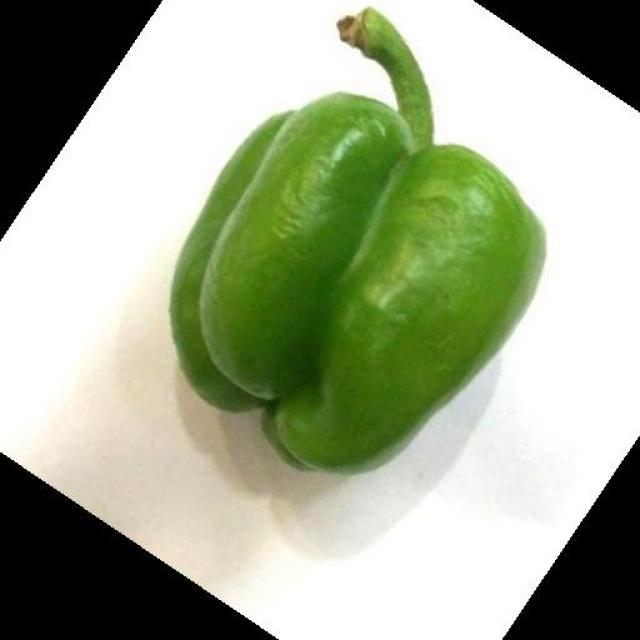Fresh_Capsicum: (224, 0, 545, 462)
